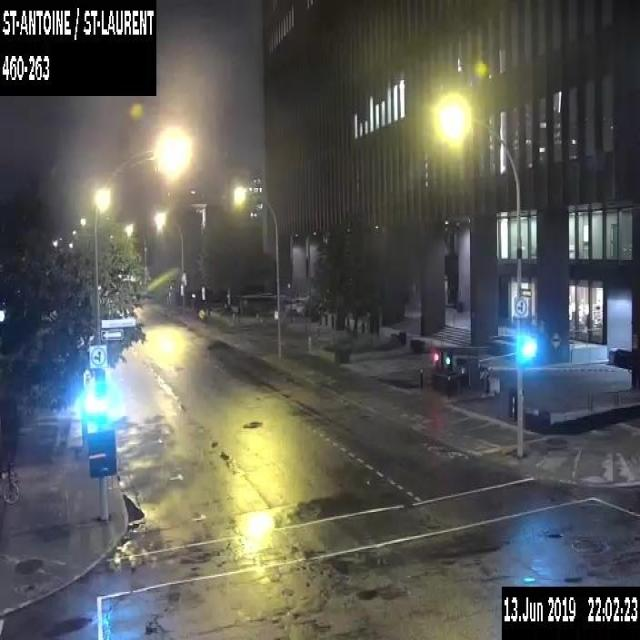vehicle: (1, 467, 20, 504)
